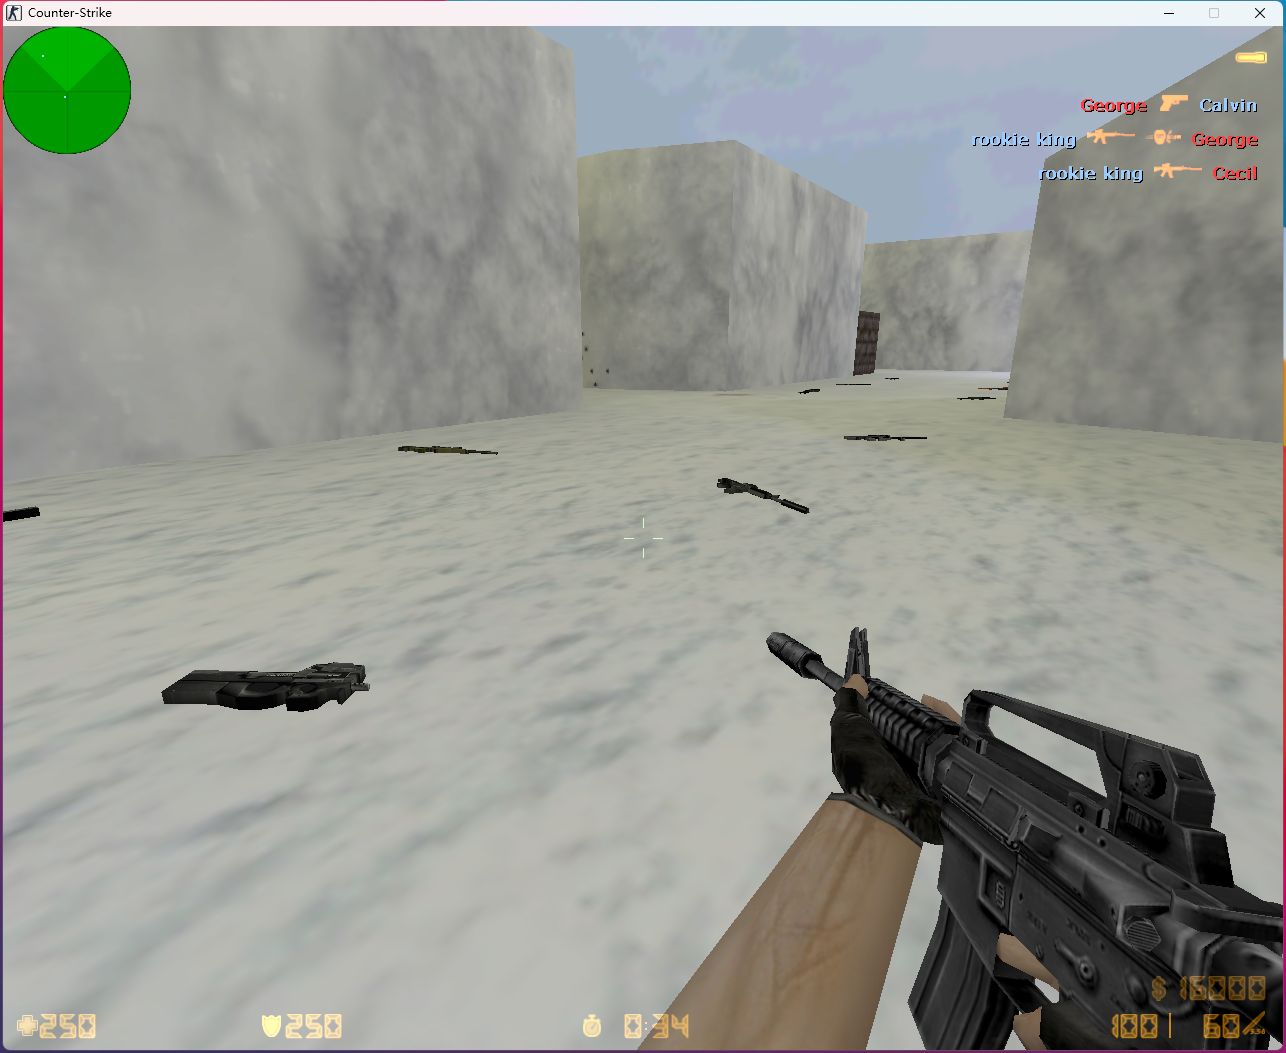weapon: (155, 651, 375, 717), (713, 472, 811, 518), (393, 440, 503, 462), (833, 430, 929, 445), (955, 393, 997, 403), (830, 381, 871, 388), (798, 386, 818, 397)
